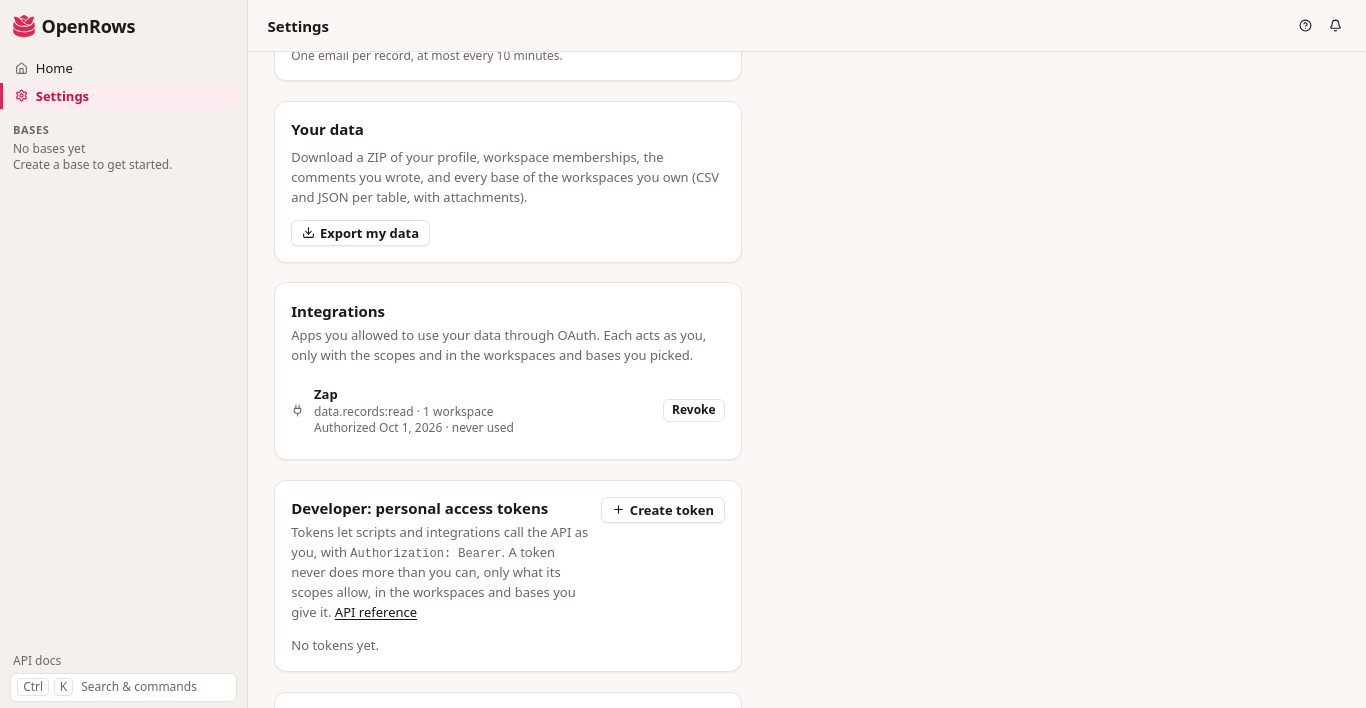
Scenario: OAuth apps (#125) › lists authorized apps and revokes one
(page scrolled)
Expected: the text "Zap" is shown, [314, 385, 338, 403]
Expected: the text "data.records:read · 1 workspace" is shown, [314, 403, 494, 420]
Click the button with aria-label "Revoke Zap" at (694, 410), box [663, 399, 725, 422]
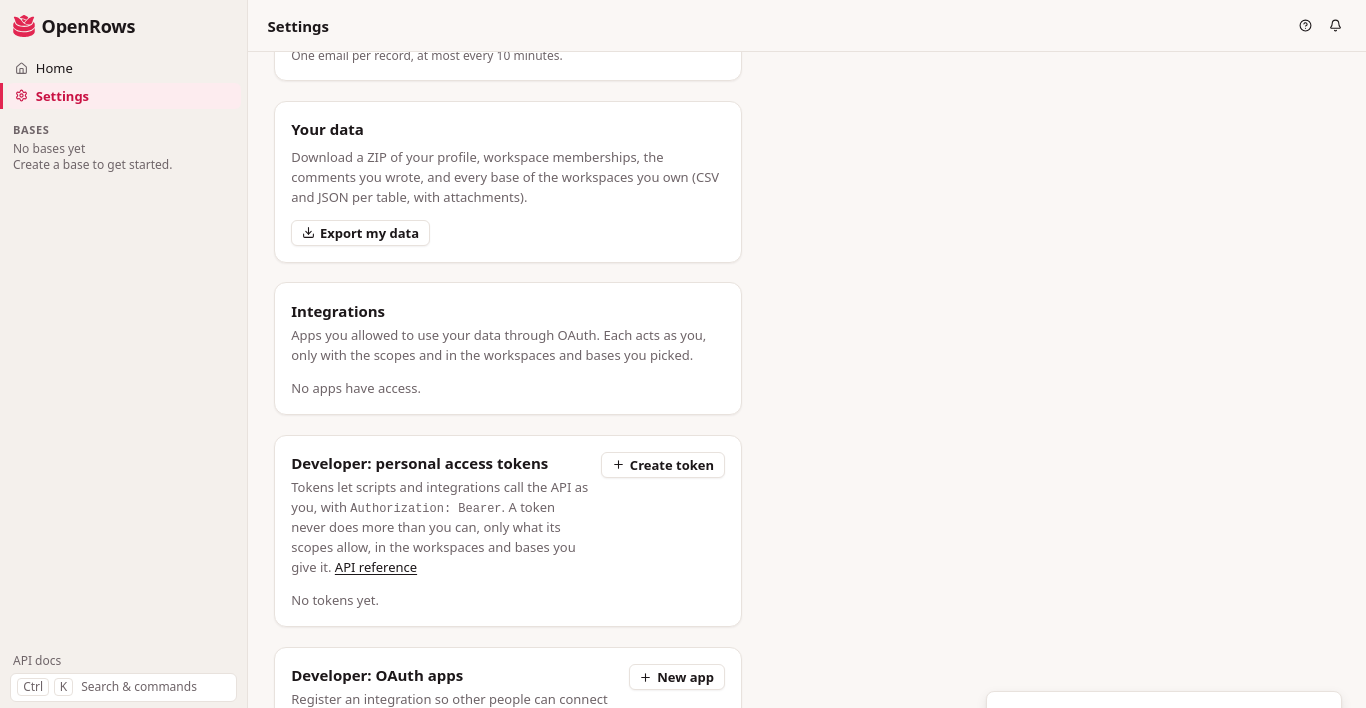
Expected: the text "No apps have access." is shown, [291, 379, 421, 397]
